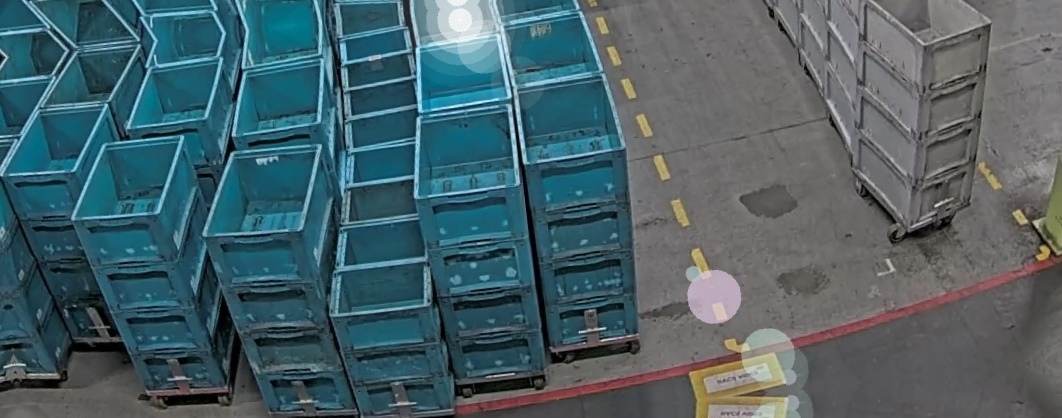4G: (829, 0, 1014, 241)
B4: (61, 130, 245, 407), (190, 140, 364, 418), (406, 103, 552, 387), (509, 73, 646, 350), (0, 100, 144, 353)
B8: (321, 215, 458, 418)
